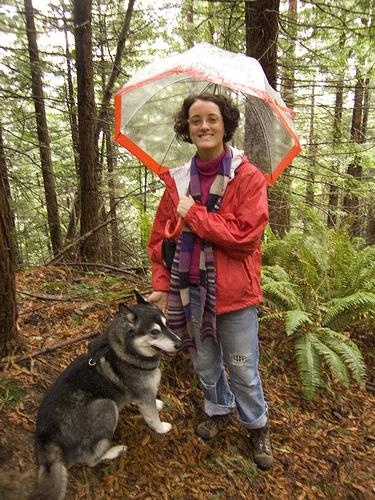person: (146, 95, 281, 466)
